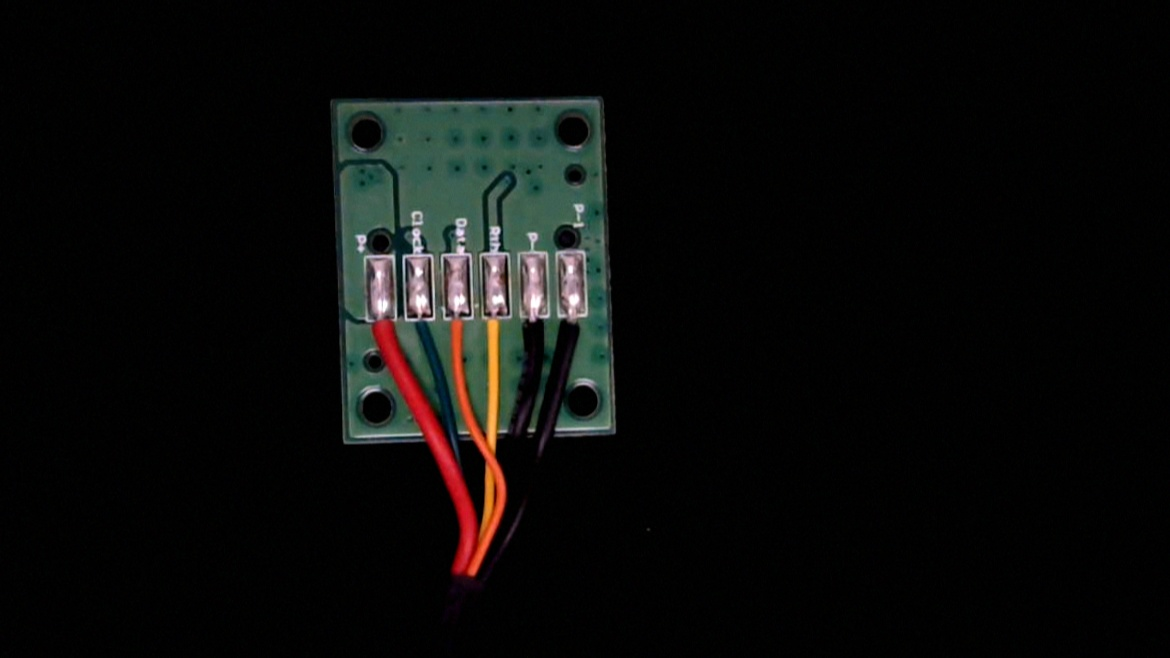Black: (520, 298, 548, 365)
Black1: (558, 297, 588, 359)
Green: (404, 298, 433, 366)
Orange: (442, 298, 469, 364)
Red: (366, 300, 400, 373)
Yellow: (481, 298, 511, 363)
